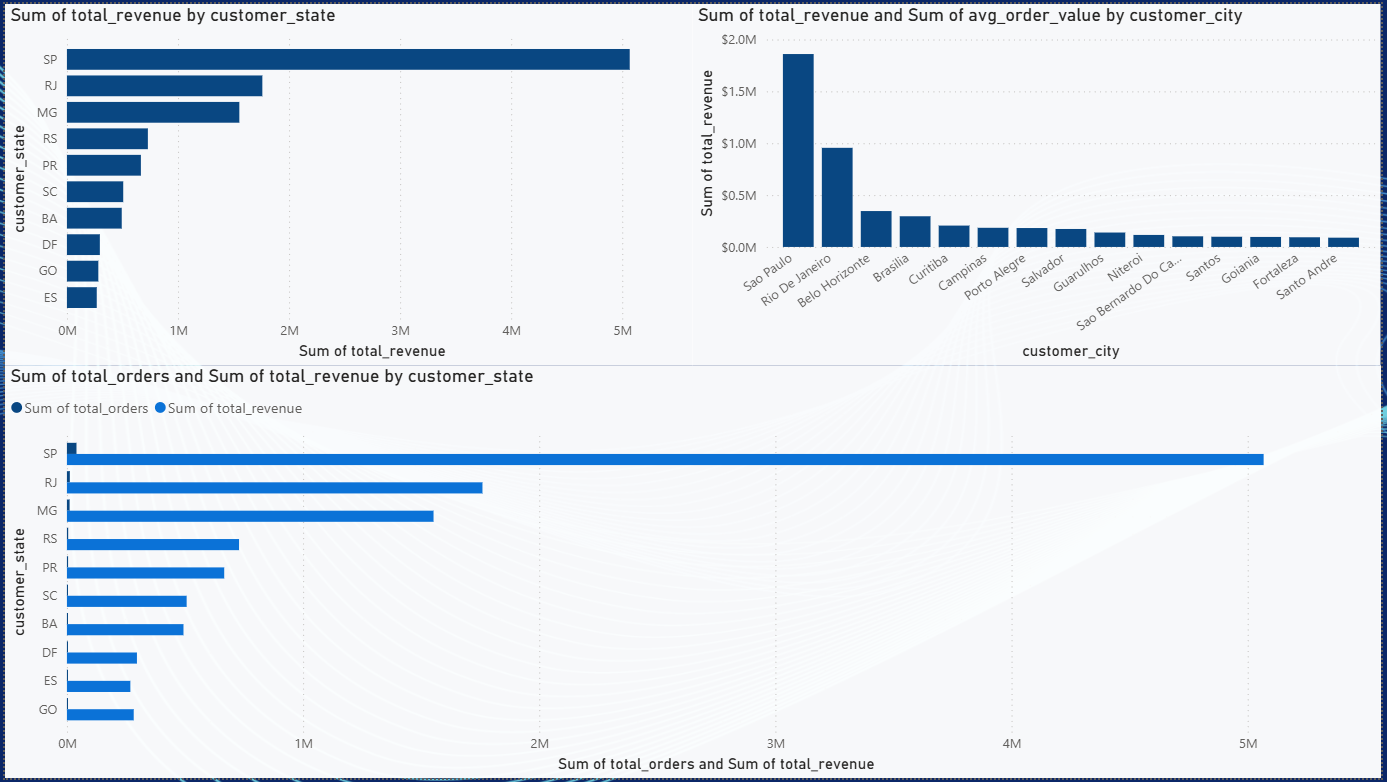

This screenshot's page, from the dashboard's own definition file:
{"tool":"powerbi","page":{"name":"Geography Analysis","canvas":[1280,720],"ordinal":1},"visuals":[{"type":"barChart","fields":{"Category":["02_revenue_by_state.customer_state"],"Y":["Sum(02_revenue_by_state.total_revenue)"]},"box":[0,0,640,336],"z":0},{"type":"clusteredBarChart","fields":{"Y":["Sum(02_revenue_by_state.total_orders)","Sum(02_revenue_by_state.total_revenue)"],"Category":["02_revenue_by_state.customer_state"]},"box":[0,336,1280,384],"z":1000},{"type":"columnChart","fields":{"Y":["Sum(03_revenue_by_city.total_revenue)"],"Category":["03_revenue_by_city.customer_city"]},"box":[640,0,640,336],"z":2000}]}

Visuals, with their boxes in screenshot pixels (x1, y1, x2, y2), scaled from the page's 1280x720 canvas onto the 1387x782 screenshot:
barChart - 02_revenue_by_state.customer_state x Sum(02_revenue_by_state.total_revenue): 0:0:694:365
clusteredBarChart - Sum(02_revenue_by_state.total_orders) x Sum(02_revenue_by_state.total_revenue): 0:365:1386:781
columnChart - Sum(03_revenue_by_city.total_revenue) x 03_revenue_by_city.customer_city: 694:0:1386:365
